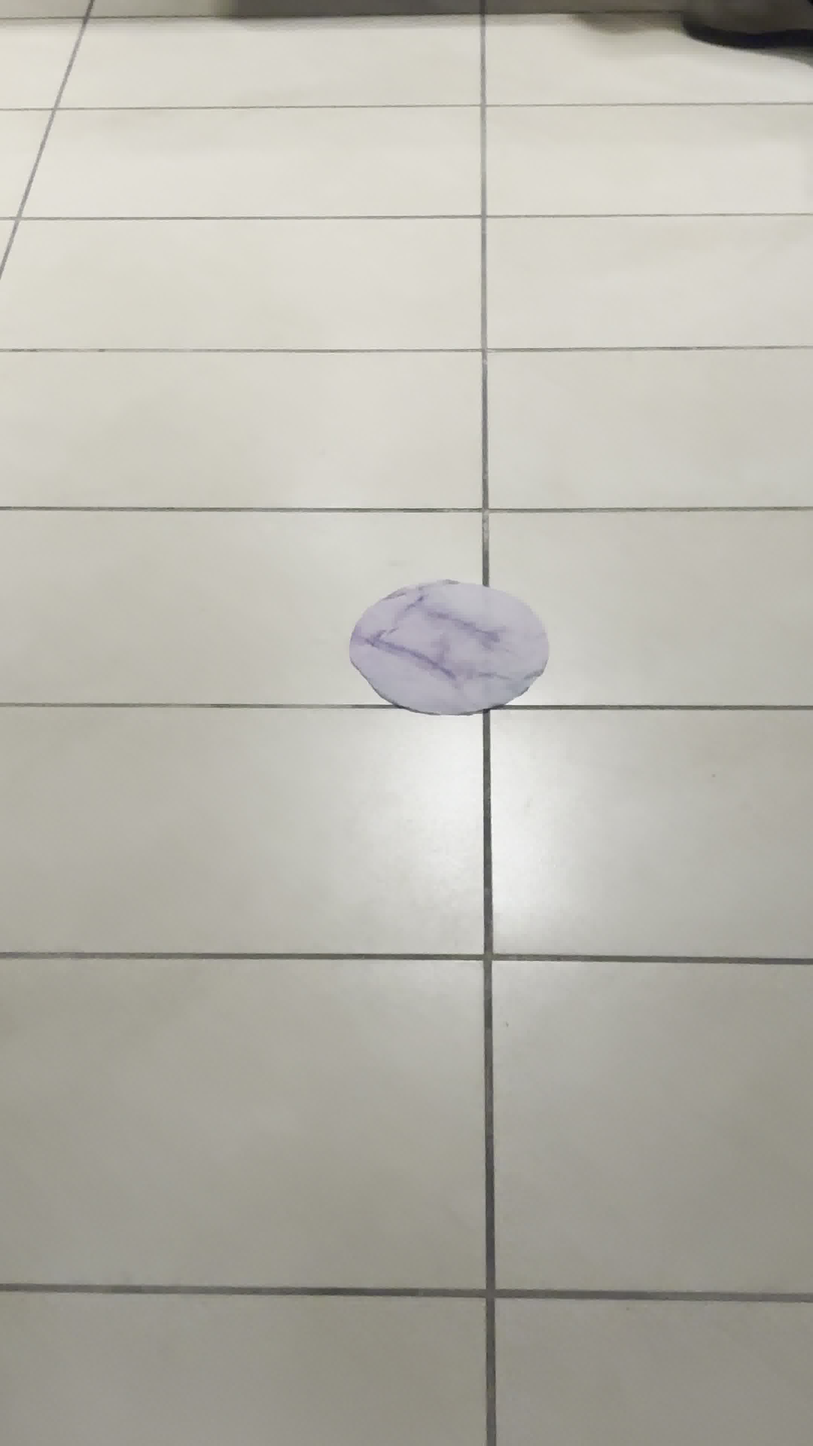Target: (349, 583, 548, 718)
